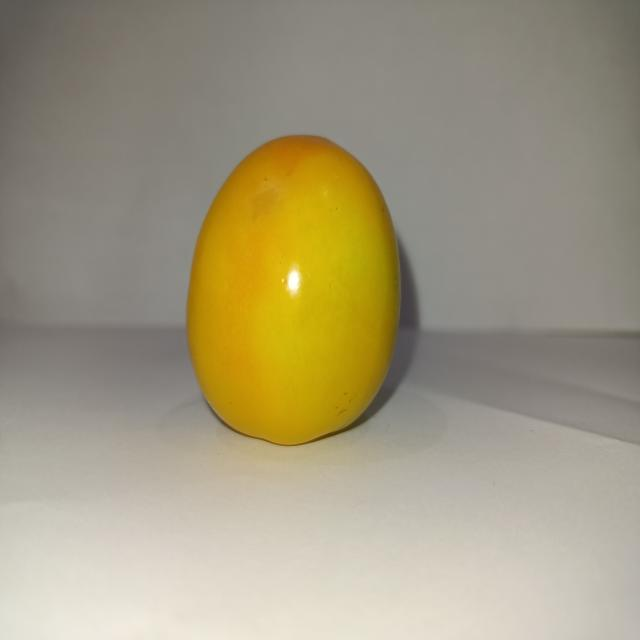Red: (185, 132, 402, 446)
